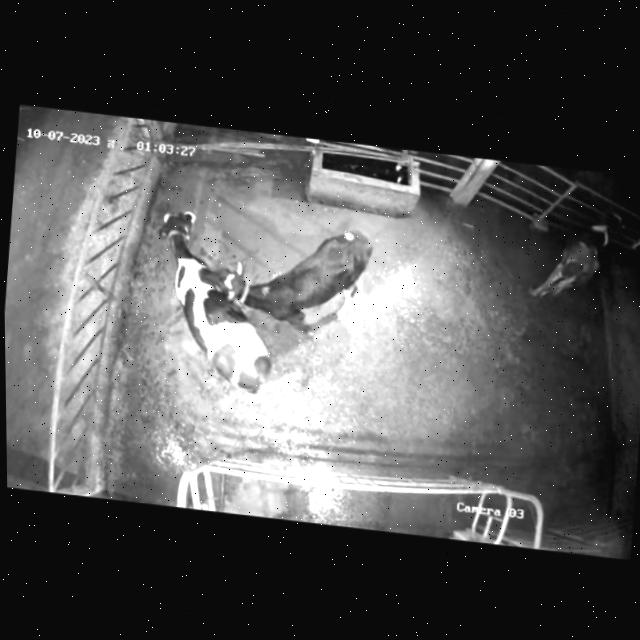propping: (185, 255, 290, 324)
stand: (143, 204, 286, 412), (516, 201, 633, 324)
